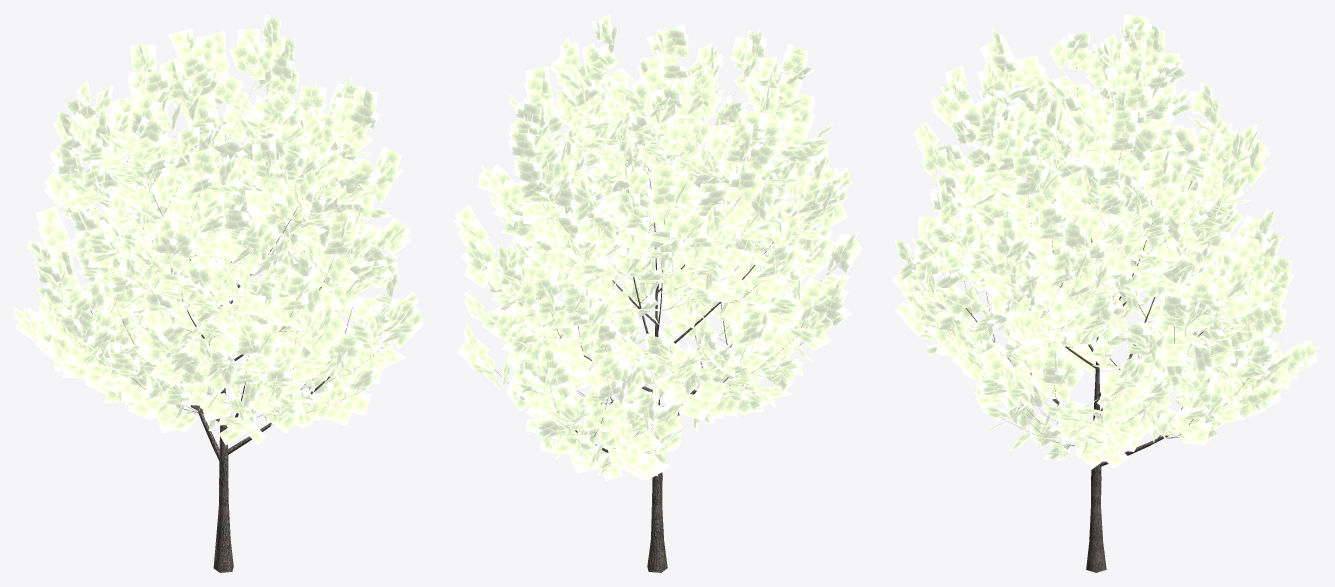
Rendered from tree.glb.
3 views of the same model, side by side, from view 1: azimuth 30°, elevation 25°; view 2: azimuth 150°, elevation 25°; view 3: azimuth 270°, elevation 25° (orthographic).
Bounding box in the file's own units: 8.08 × 11 × 8.19.
Materials: 2 (2 with a texture image).
